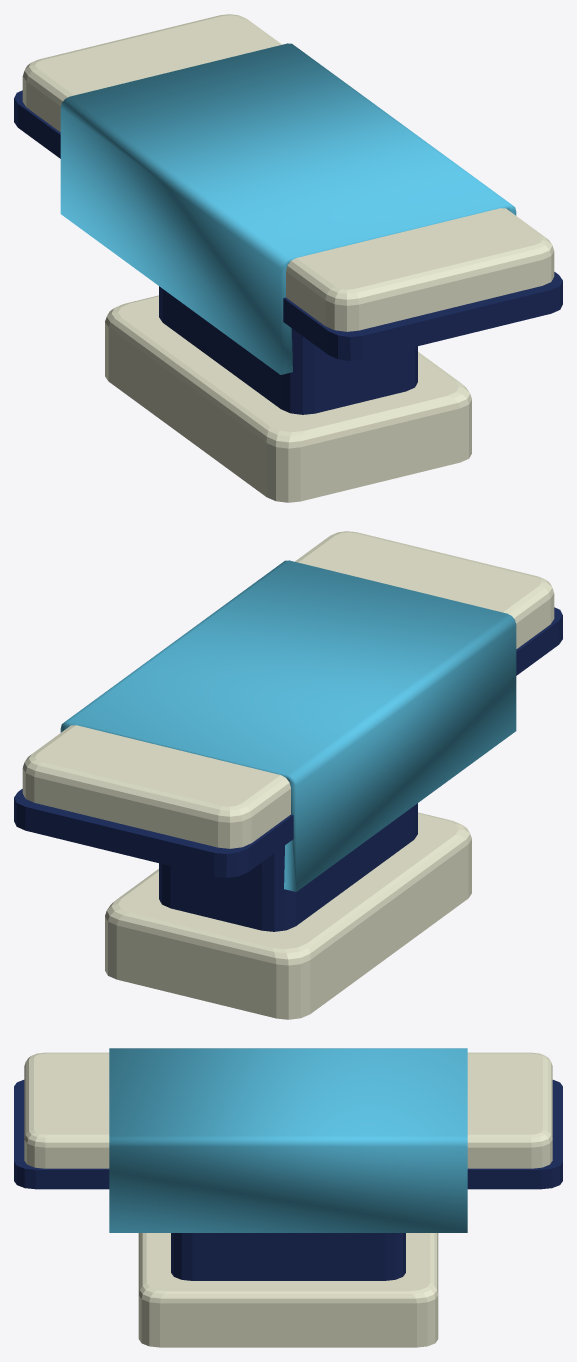
The model's file is bed01-hospital.fbx.
The picture shows the model from 3 angles, top to bottom: view 1: azimuth 30°, elevation 25°; view 2: azimuth 150°, elevation 25°; view 3: azimuth 270°, elevation 25°; orthographic projection. The views are drawn at different scales.
Parts seen in each view (by area): view 1: bed01-hospital; view 2: bed01-hospital; view 3: bed01-hospital.
Boxes of the visible parts, left/top/right/bottom form: bed01-hospital: left=14, top=14, right=562, bottom=502; bed01-hospital: left=14, top=531, right=562, bottom=1019; bed01-hospital: left=14, top=1048, right=562, bottom=1347.
Bounding box in the file's own units: 148 × 158 × 367.
